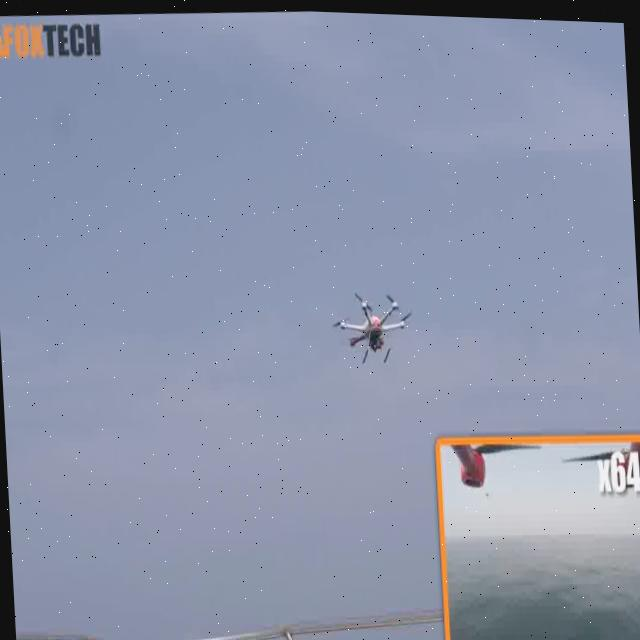drone: (322, 281, 428, 371)
